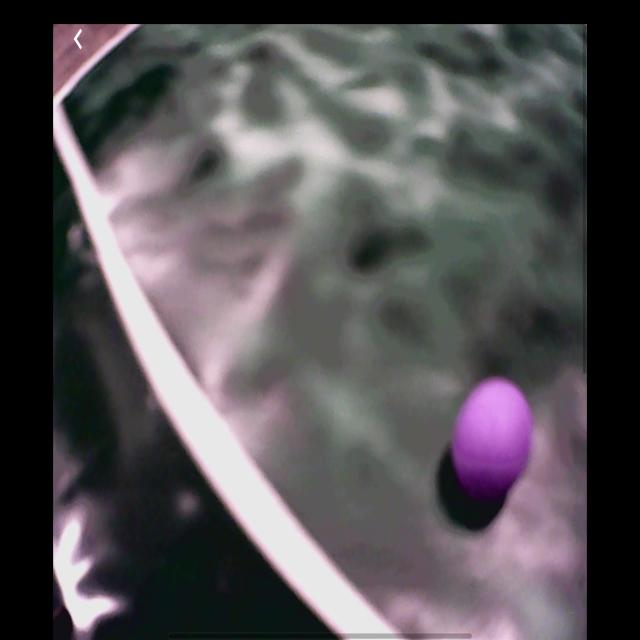ball: (453, 378, 535, 499)
